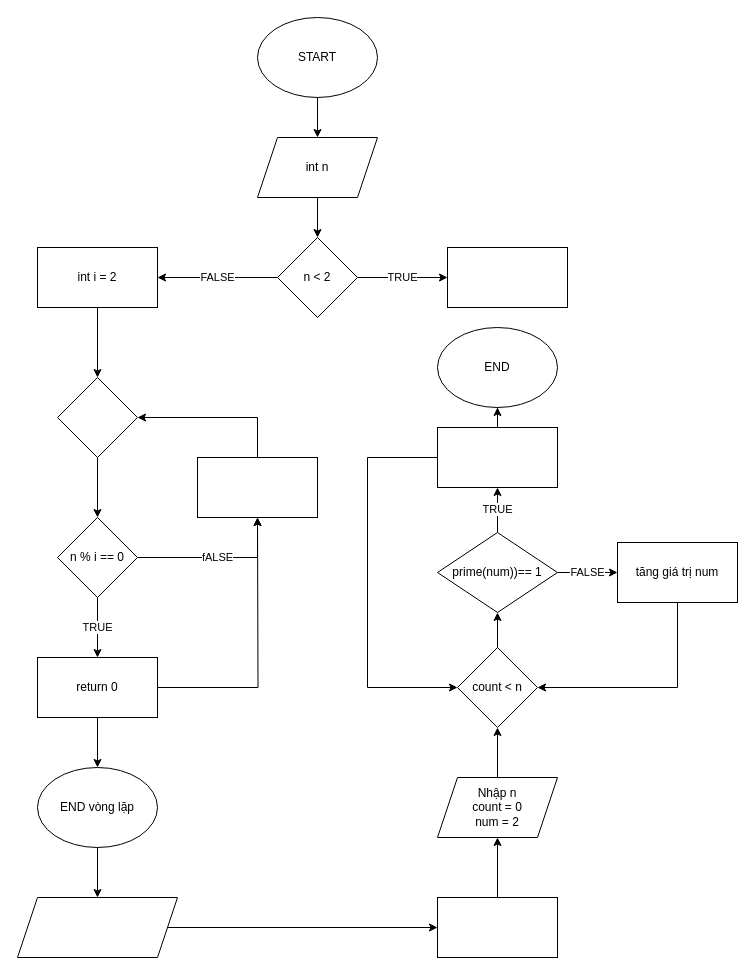
The diagram is 755 pixels wide and 975 high, and some of its shapes have lost their labels. Each missing label, with the centre of its shape:
i <= căn n: point (97, 417)
i++: point (257, 487)
in ra num(số nguyên tố) tăng giá trị count: point (497, 457)
loại 0,1: point (507, 277)
n là số nguyên tố: point (497, 927)
return 1 nếu ko tìm thấy ước: point (97, 927)
